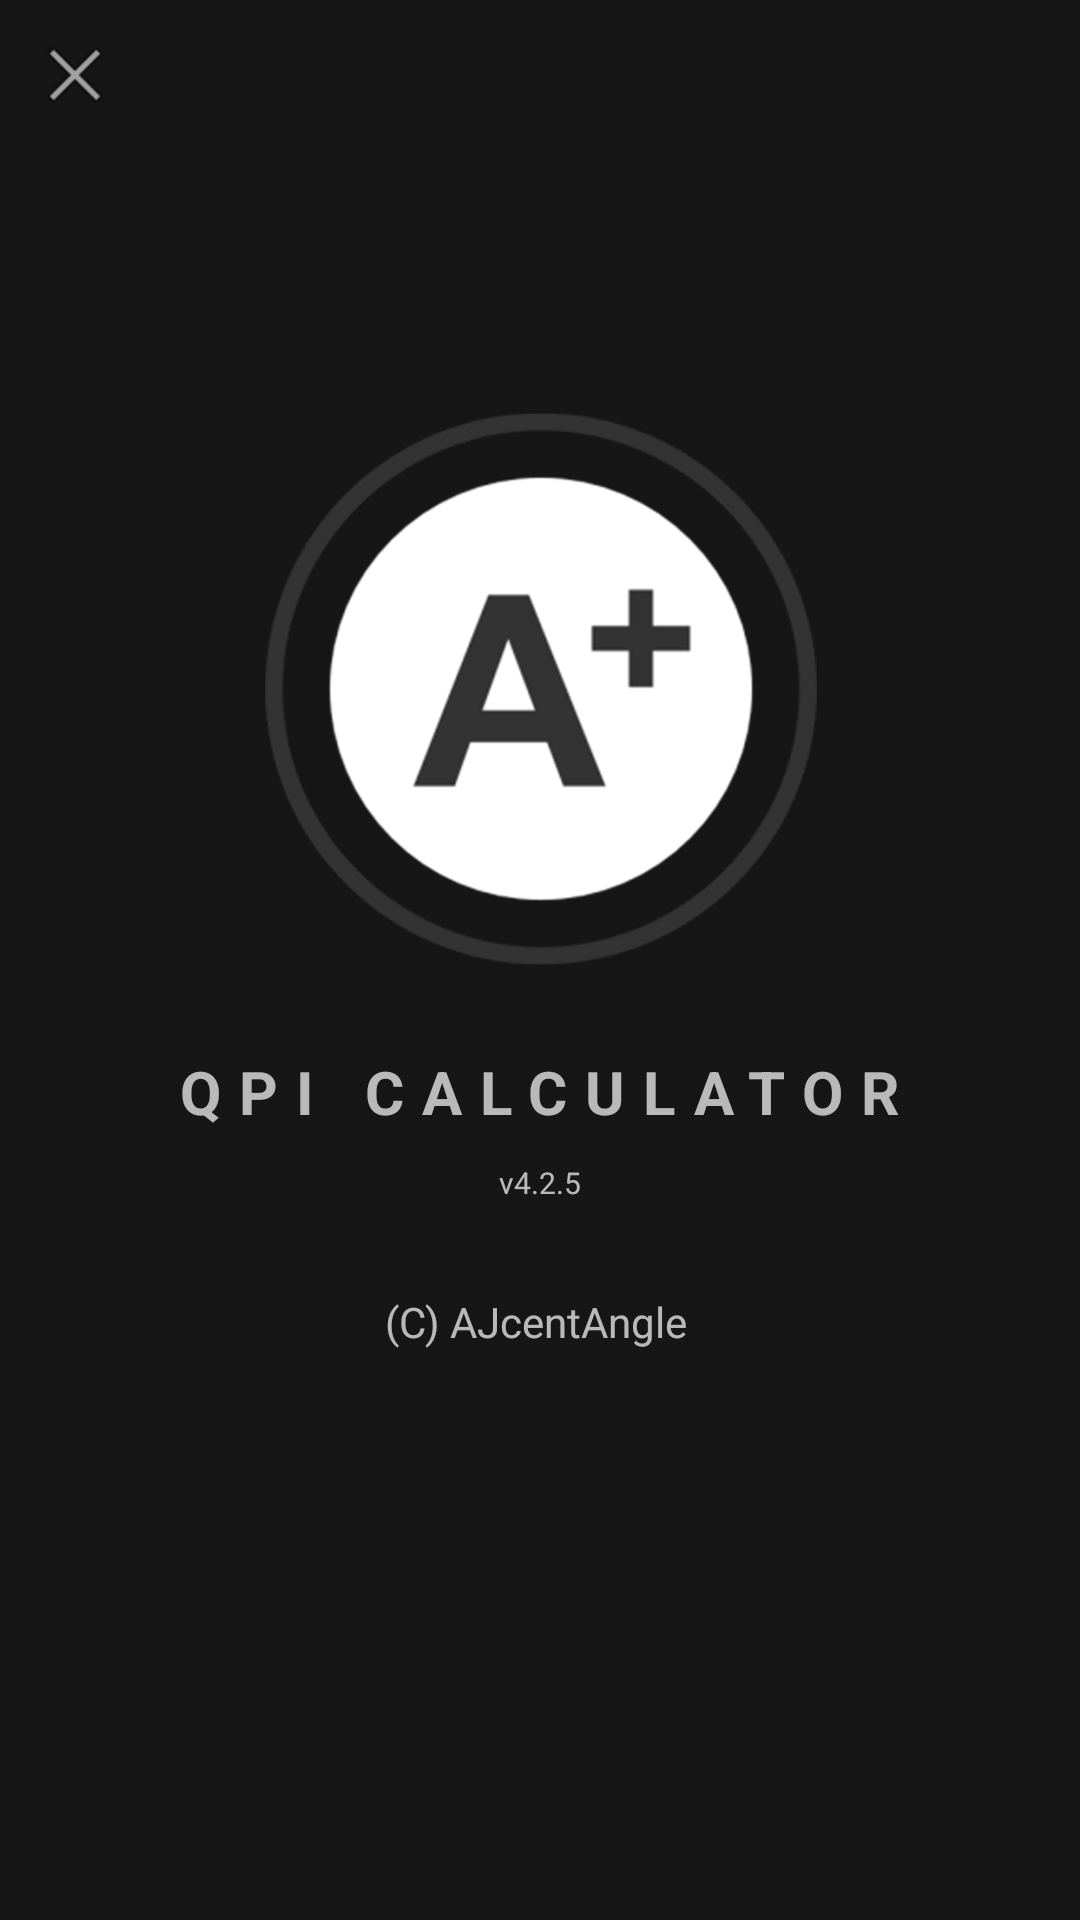

Where icons sit on this 1080w x 1920h app screen, as (x1, y1, x2, y2):
close clear cancel: (50, 50, 100, 100)
